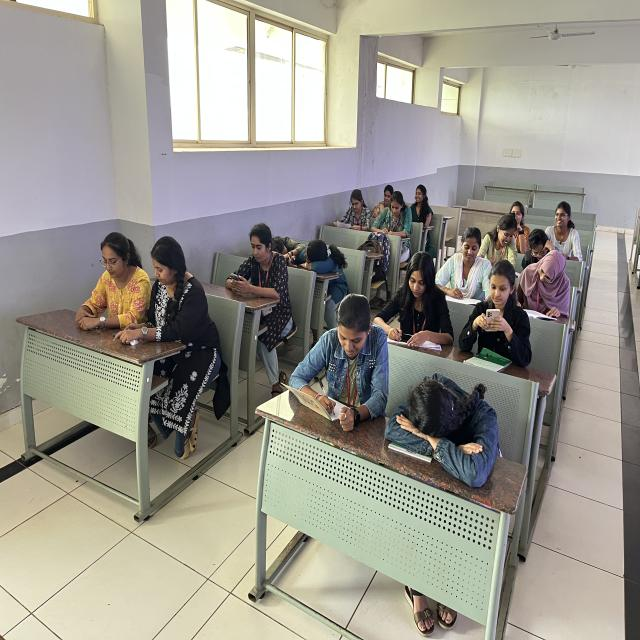Reading: (331, 183, 376, 236)
Sleeping: (382, 361, 510, 496), (293, 229, 349, 299)
Using Phone: (460, 259, 535, 373), (222, 218, 292, 307)
Writing: (282, 288, 396, 432), (370, 249, 460, 357), (436, 226, 498, 305), (514, 247, 574, 327), (372, 190, 414, 240)
